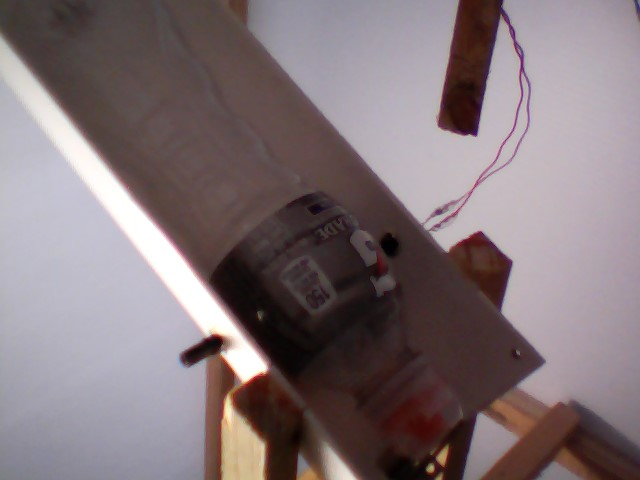plastico: (31, 1, 474, 462)
